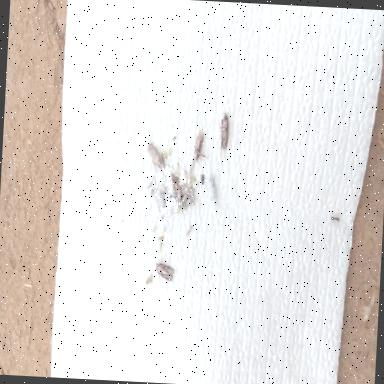pbw: (145, 138, 166, 176), (166, 166, 184, 203), (216, 110, 229, 160), (192, 124, 208, 164), (152, 257, 175, 282)
